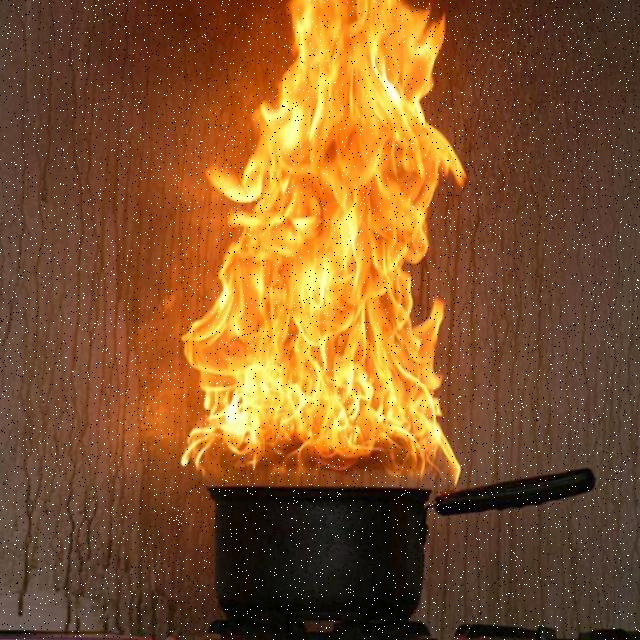fire: (192, 6, 455, 473)
